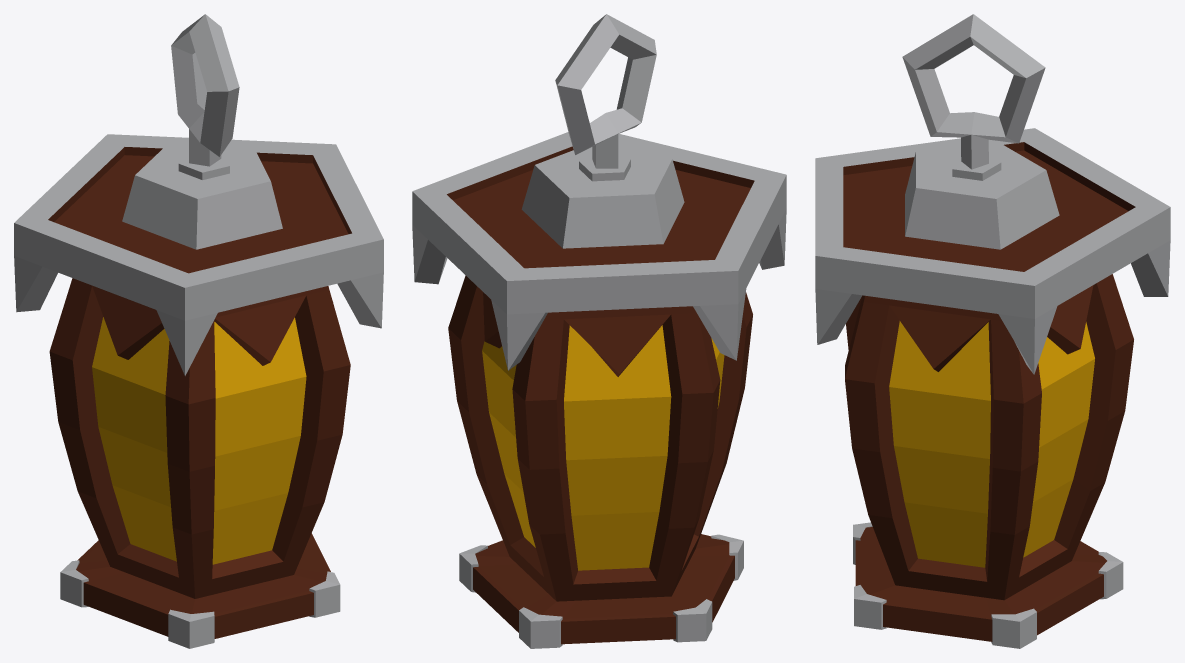
File: Torch.fbx
The picture shows the model from 3 angles, left to right: view 1: azimuth 30°, elevation 25°; view 2: azimuth 150°, elevation 25°; view 3: azimuth 270°, elevation 25°; orthographic projection.
Parts seen in each view (by area): view 1: Circle; view 2: Circle; view 3: Circle.
Part boxes in pixels (<box>): Circle: <box>14,14,383,648</box>; Circle: <box>412,14,786,648</box>; Circle: <box>815,14,1170,648</box>.
Size of the model in its own units: 124 by 211 by 118.
